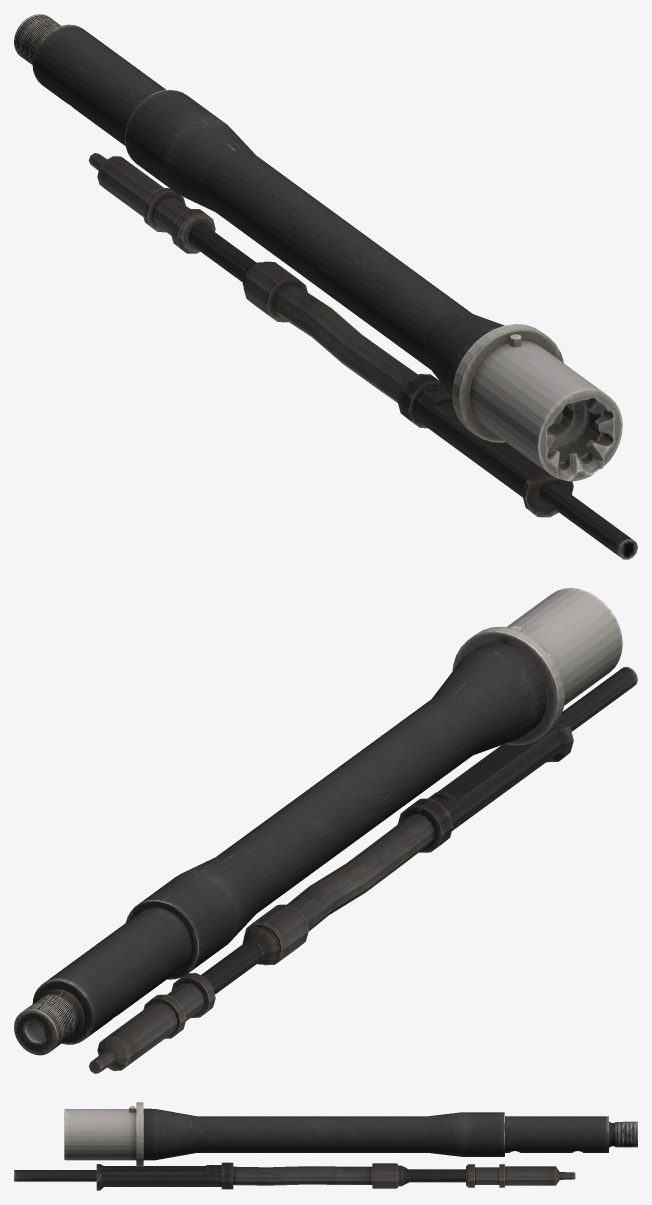
3 views of the same model, one above another, from view 1: azimuth 30°, elevation 25°; view 2: azimuth 150°, elevation 25°; view 3: azimuth 270°, elevation 25° (orthographic). The views are drawn at different scales.
Visible parts, largest first — view 1: TW_5c6d85e02e22165df16b81f4_PZ_Import; view 2: TW_5c6d85e02e22165df16b81f4_PZ_Import; view 3: TW_5c6d85e02e22165df16b81f4_PZ_Import.
Part boxes in pixels (x1,y1,x2,y2): TW_5c6d85e02e22165df16b81f4_PZ_Import: (14,14,637,559); TW_5c6d85e02e22165df16b81f4_PZ_Import: (14,588,637,1073); TW_5c6d85e02e22165df16b81f4_PZ_Import: (14,1102,637,1190).
Bounding box in the file's own units: 0.0172 × 0.1671 × 0.0248.
1 material, 1 textured.
